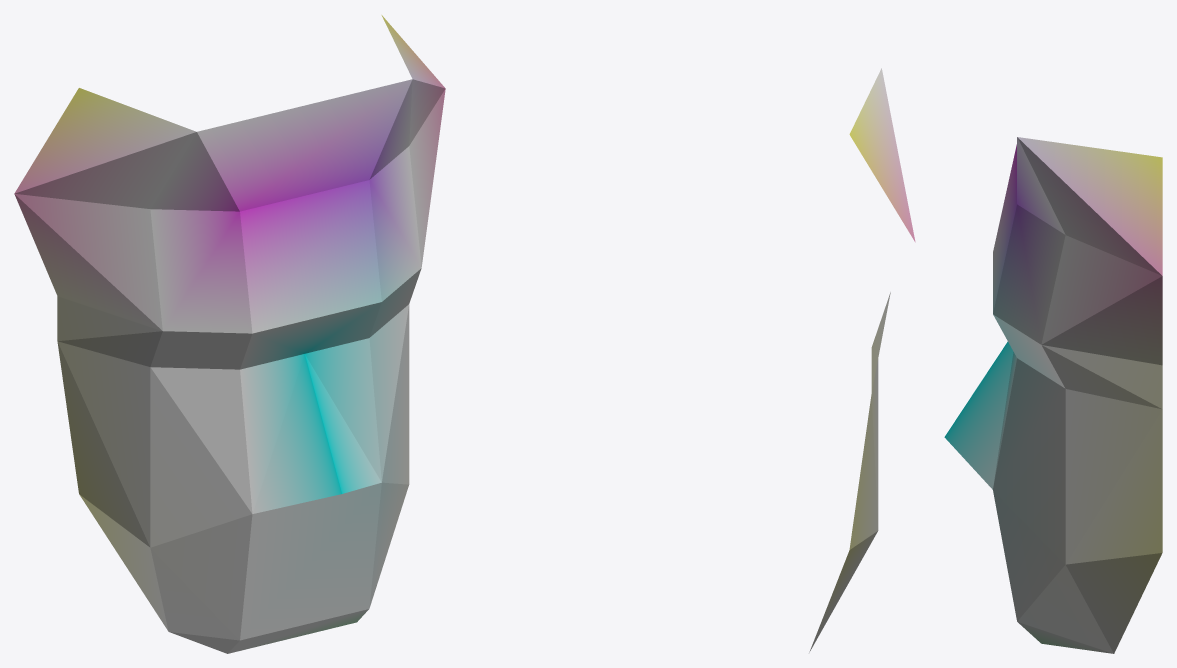
The picture shows the model from 3 angles, left to right: view 1: azimuth 30°, elevation 25°; view 2: azimuth 150°, elevation 25°; view 3: azimuth 270°, elevation 25°; orthographic projection. The views are drawn at different scales.
Visible parts, largest first — view 1: model_13F0; view 2: model_13F0; view 3: model_13F0.
Boxes of the visible parts, x1,y1,x2,y2 form: model_13F0: (14,15,445,653); model_13F0: (809,68,915,652); model_13F0: (944,137,1162,653).
Size of the model in its own units: 20 by 24 by 9.
